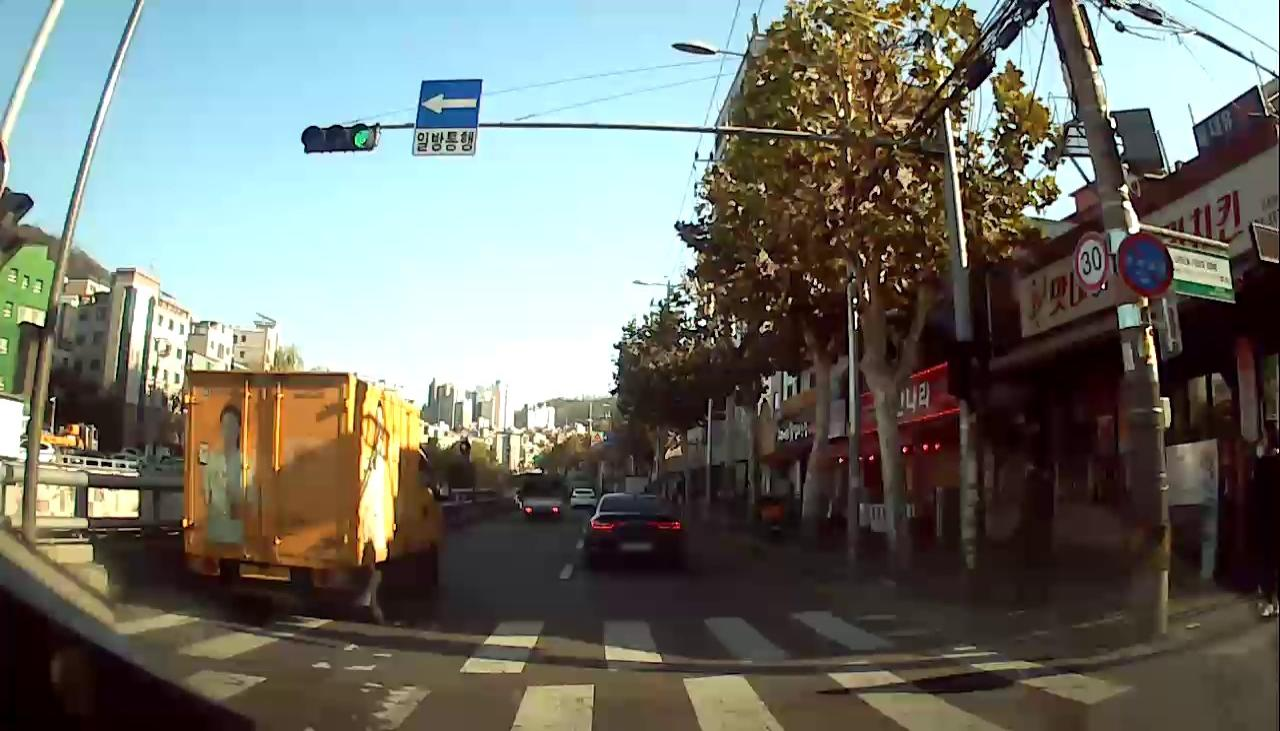Green Light: (349, 123, 376, 152)
